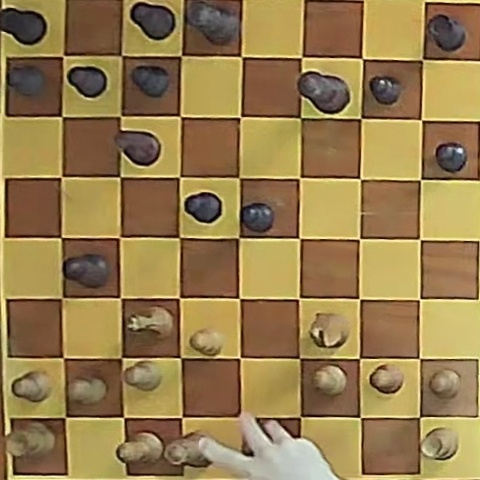black-bishop: (130, 2, 175, 40), (63, 254, 109, 288)
black-king: (298, 72, 349, 113)
black-knight: (115, 131, 161, 166)
black-pawn: (68, 66, 107, 98), (131, 65, 170, 97), (8, 65, 46, 97), (185, 192, 222, 223), (241, 202, 274, 232), (370, 76, 401, 105), (435, 143, 466, 172)
black-queen: (186, 1, 240, 45)
black-rook: (0, 7, 47, 46), (427, 14, 466, 52)
white-bishop: (116, 432, 163, 464)
white-knight: (128, 306, 174, 338), (309, 312, 348, 348)
white-pawn: (12, 370, 52, 402), (69, 376, 107, 405), (125, 361, 162, 390), (313, 365, 347, 395), (370, 364, 404, 394), (189, 328, 224, 356), (429, 369, 461, 399)
white-queen: (165, 432, 217, 467)
white-rook: (6, 422, 56, 458), (421, 427, 459, 460)
